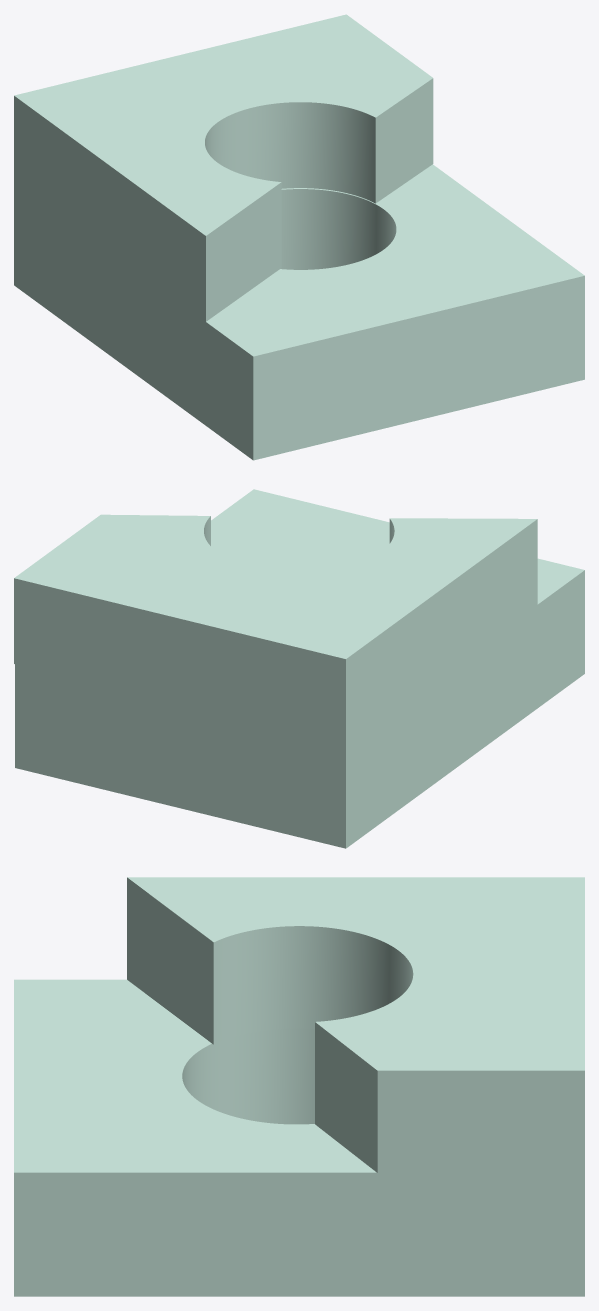
The picture shows the model from 3 angles, top to bottom: view 1: azimuth 30°, elevation 25°; view 2: azimuth 150°, elevation 25°; view 3: azimuth 270°, elevation 25°; orthographic projection. The views are drawn at different scales.
Parts seen in each view (by area): view 1: Renderer Node; view 2: Renderer Node; view 3: Renderer Node.
Boxes of the visible parts, x1,y1,x2,y2 form: Renderer Node: [14, 14, 584, 460]; Renderer Node: [14, 489, 584, 848]; Renderer Node: [14, 877, 584, 1296].
Bounding box in the file's own units: 1.2 × 0.6563 × 1.5.
